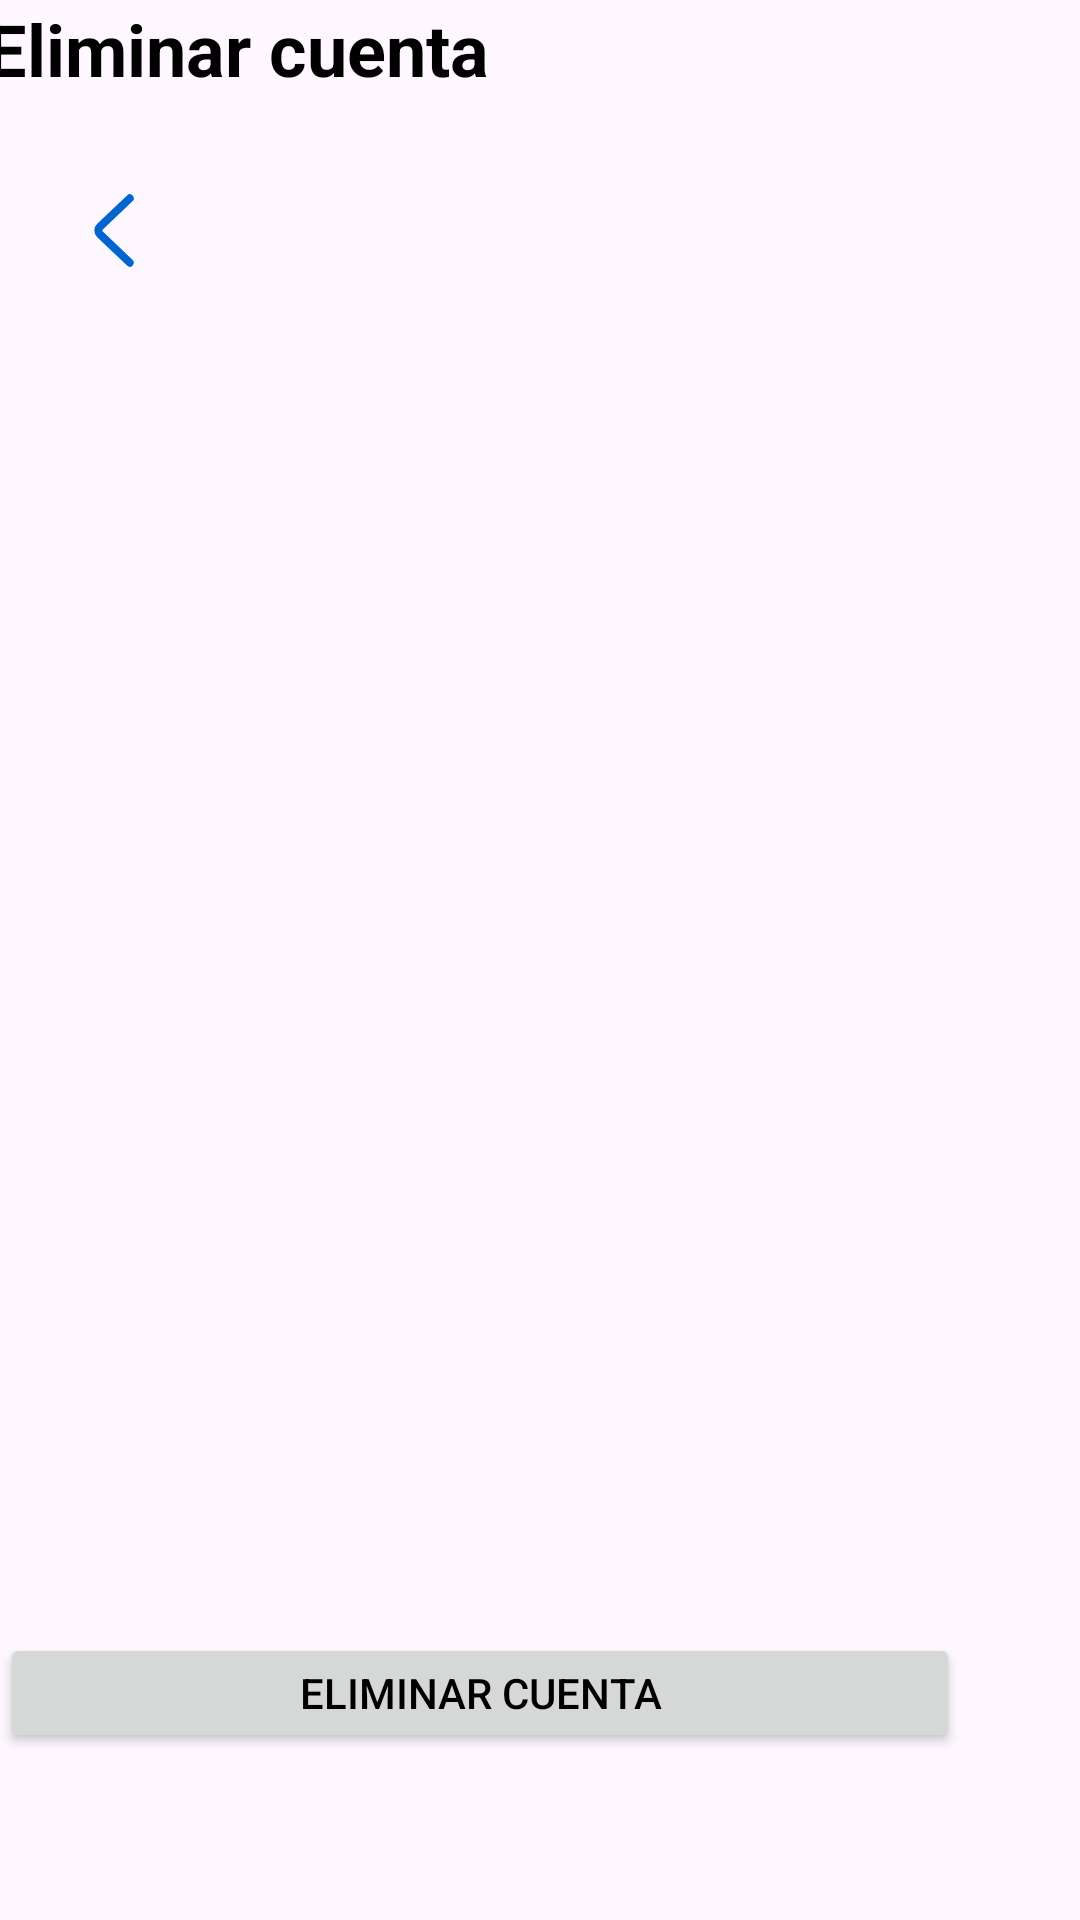

Where icons sit on this 1080px x 1920px app screen, as (x1, y1, x2, y2):
atras: (94, 194, 134, 267)
